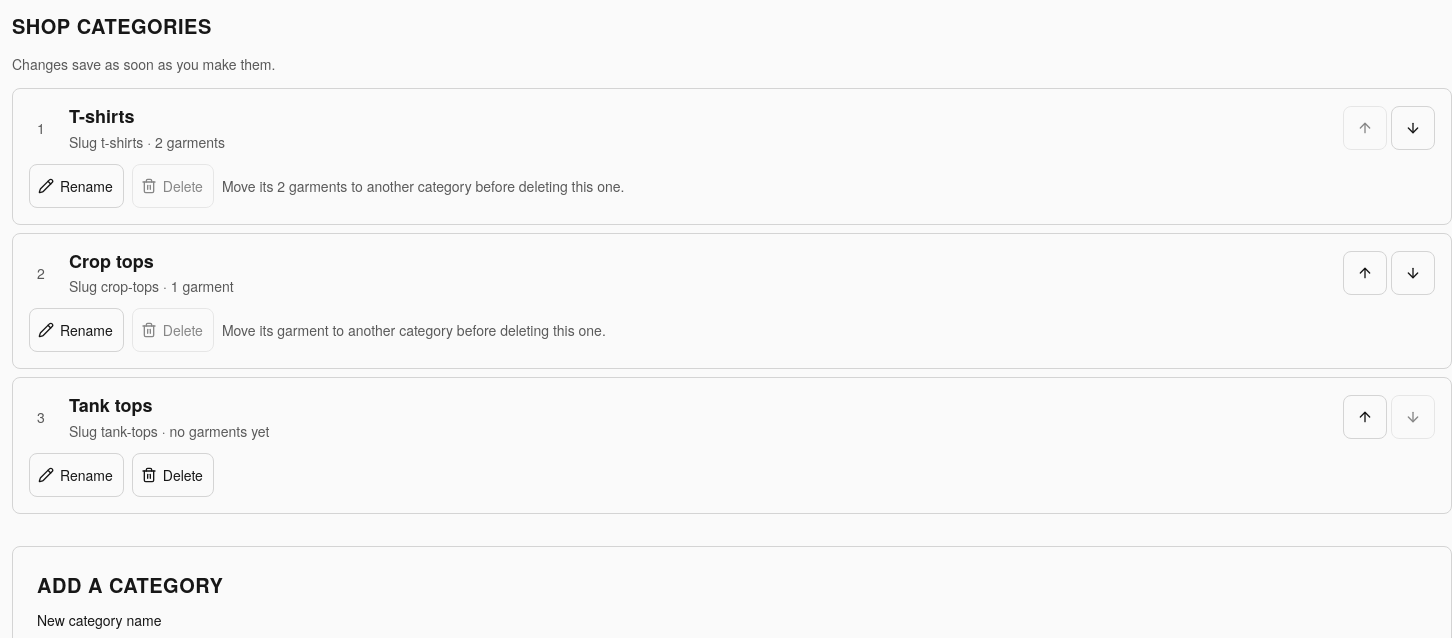
CategoryManager › deleting › shows the server's refusal and starts telling the truth about a category that turned out to be in use
The image size is (1452, 638).
Click the button named "Delete Tank tops": (173, 474) 132,452 -> 214,496
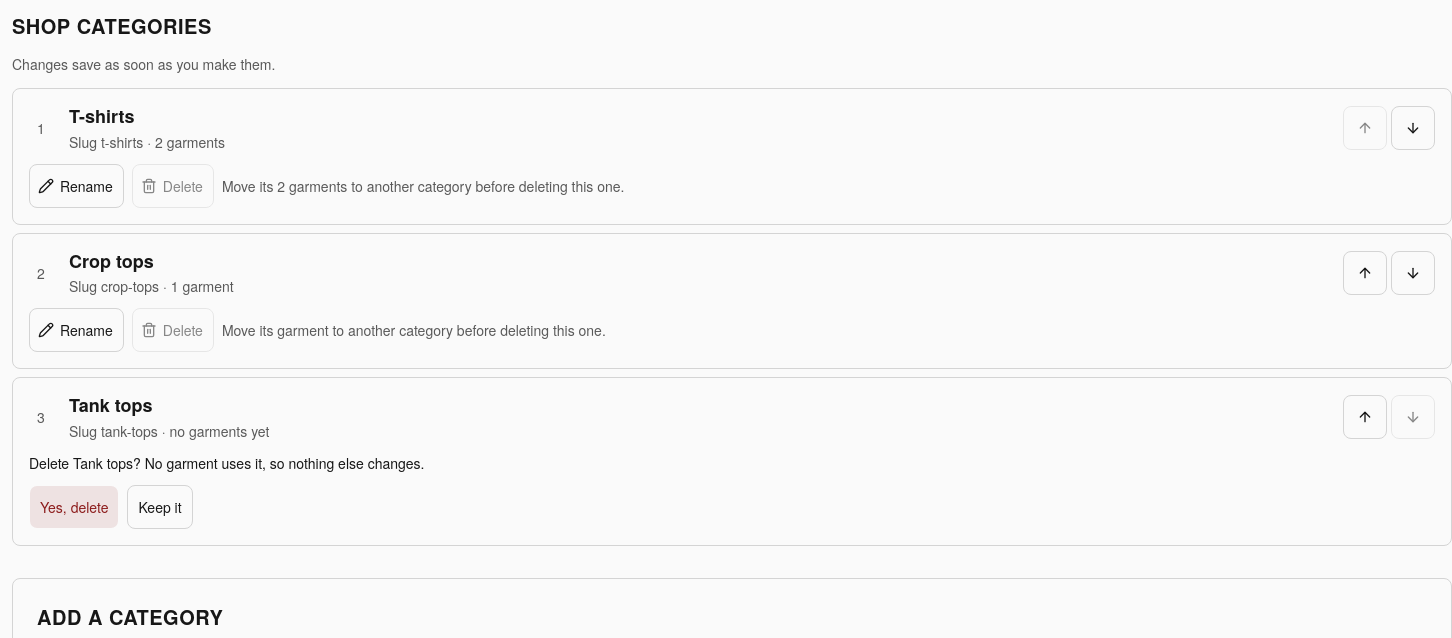
Click the button named "Yes, delete Tank tops": (74, 506) 29,484 -> 119,528
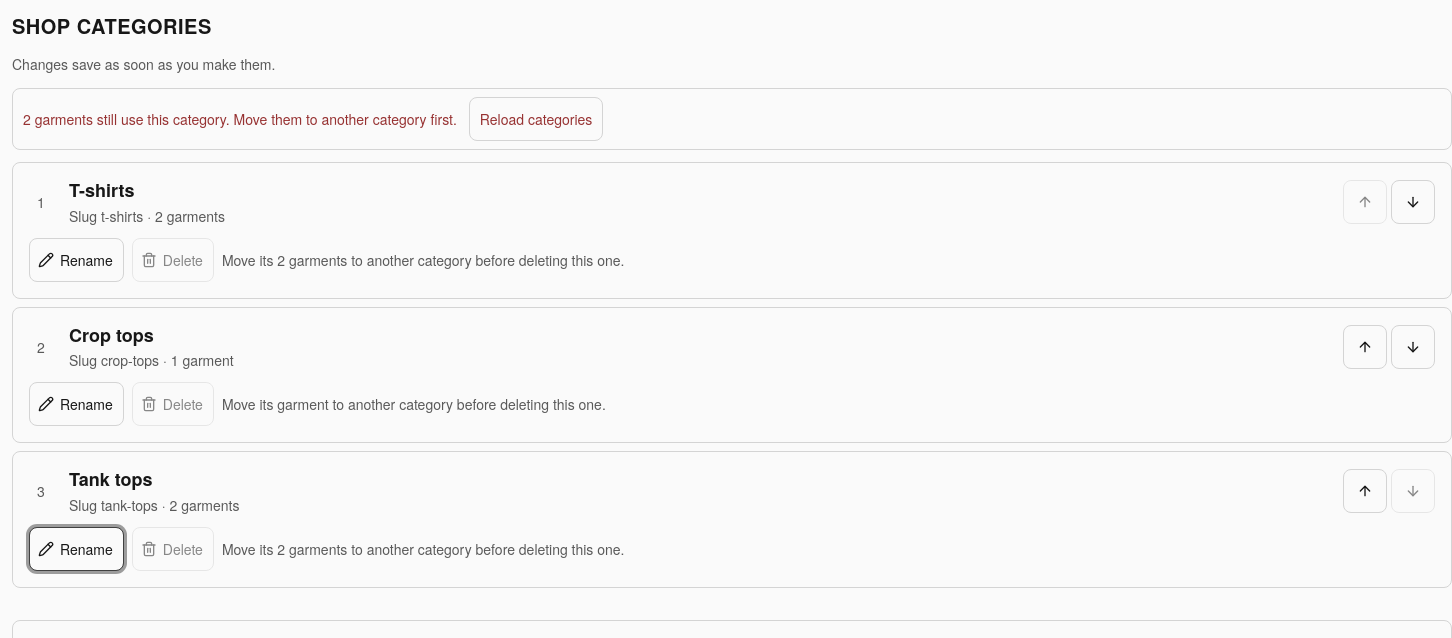
Expected: the button named "Delete Tank tops" is disabled, 132,526 -> 214,570
Expected: the message shows "2 garments still use this category. Move them to another category first.", 23,109 -> 457,129
Expected: the text "Slug tank-tops · 2 garments" is shown, 69,494 -> 240,514
